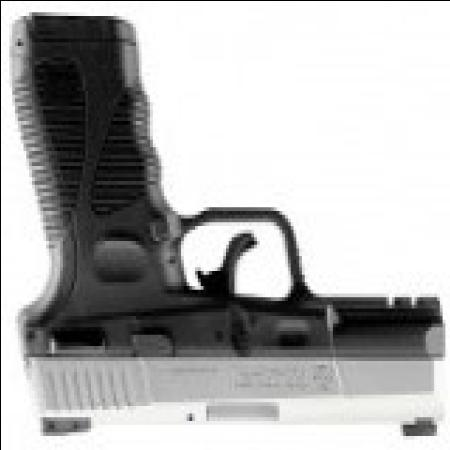Pistol: (11, 15, 447, 443)
